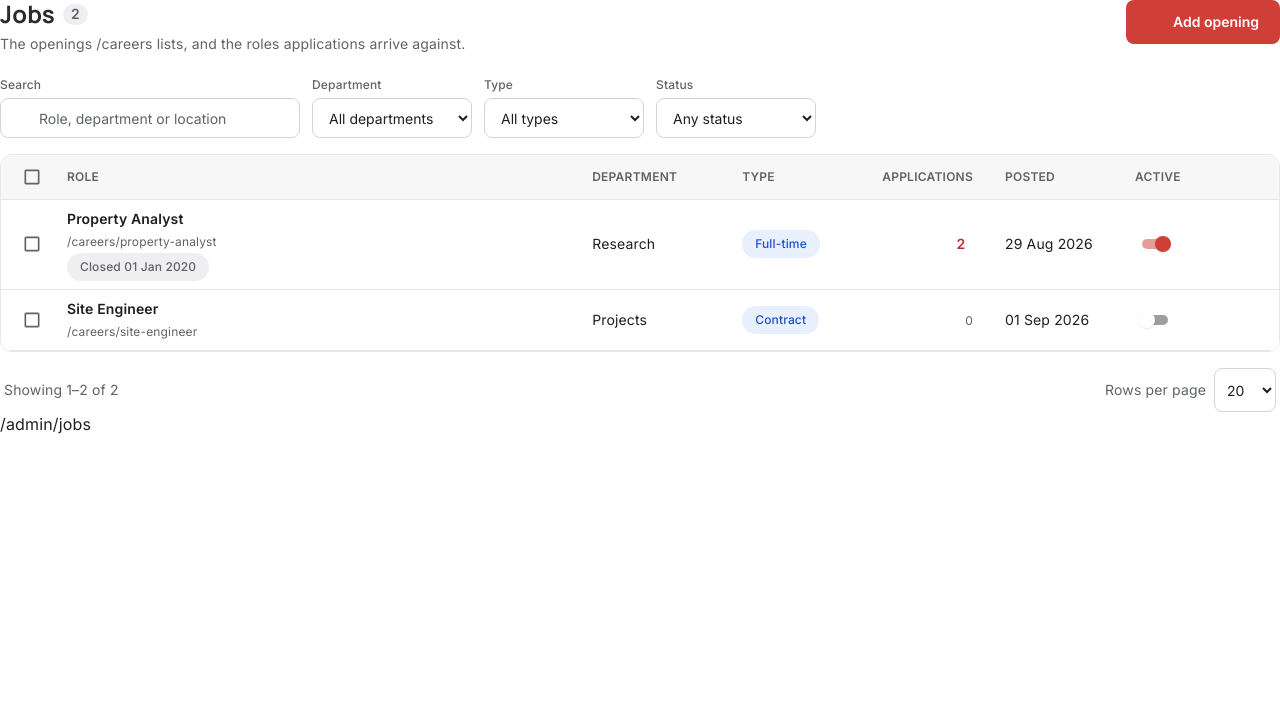
JobsPage (QA-61) › says the whole batch is refused when one has applications
Click the checkbox named "Select Property Analyst": (32,245) [22,235,42,255]
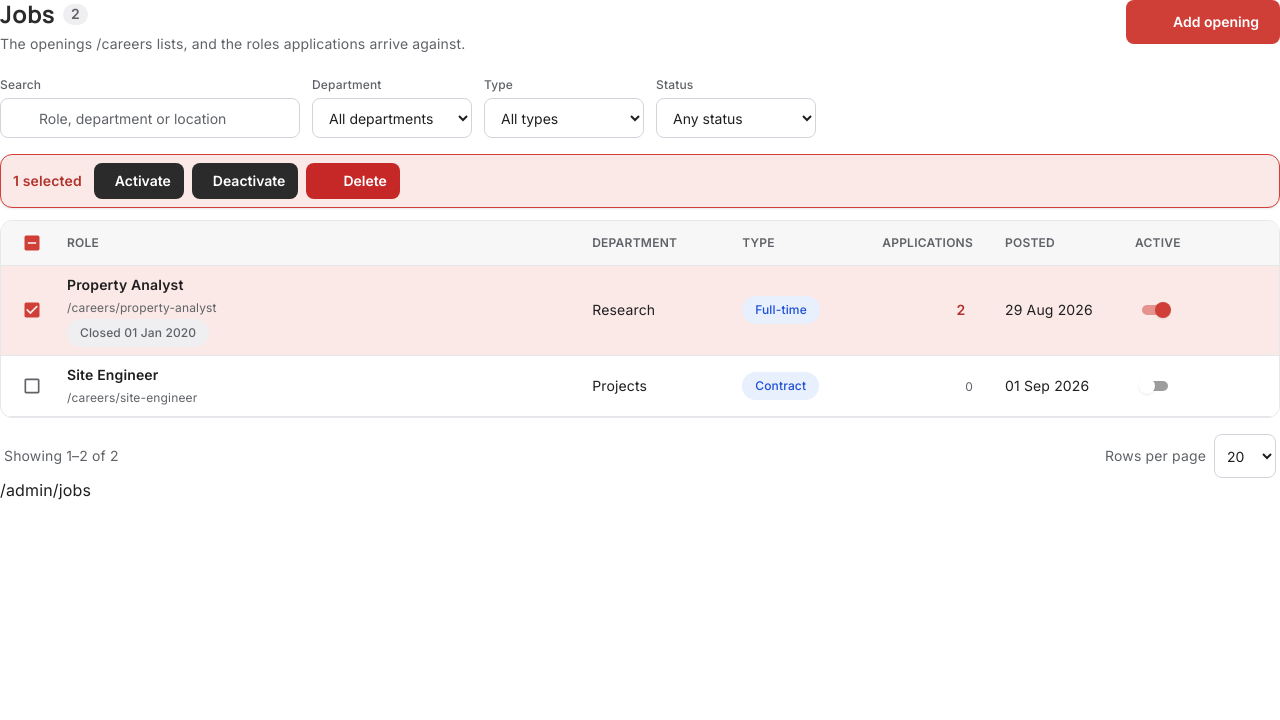
Click the checkbox named "Select Site Engineer": (32,386) [22,376,42,396]
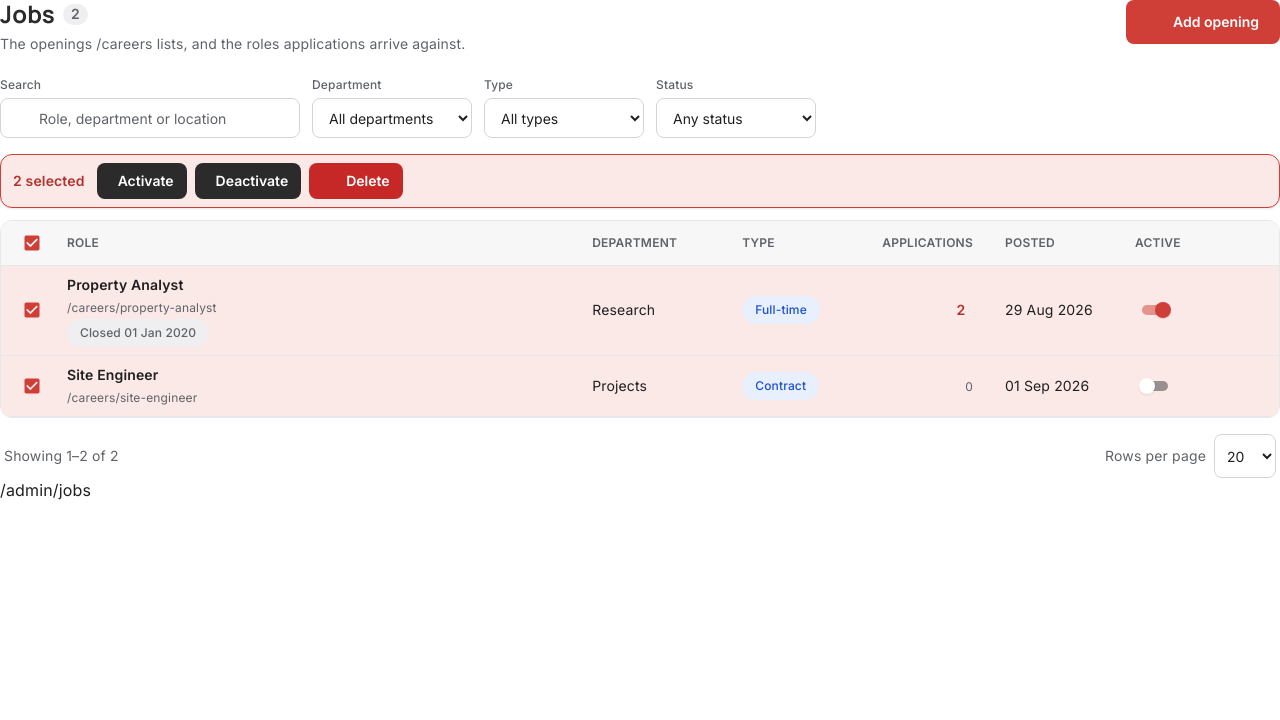
Click the button "Delete": (356,181) [309,163,403,199]
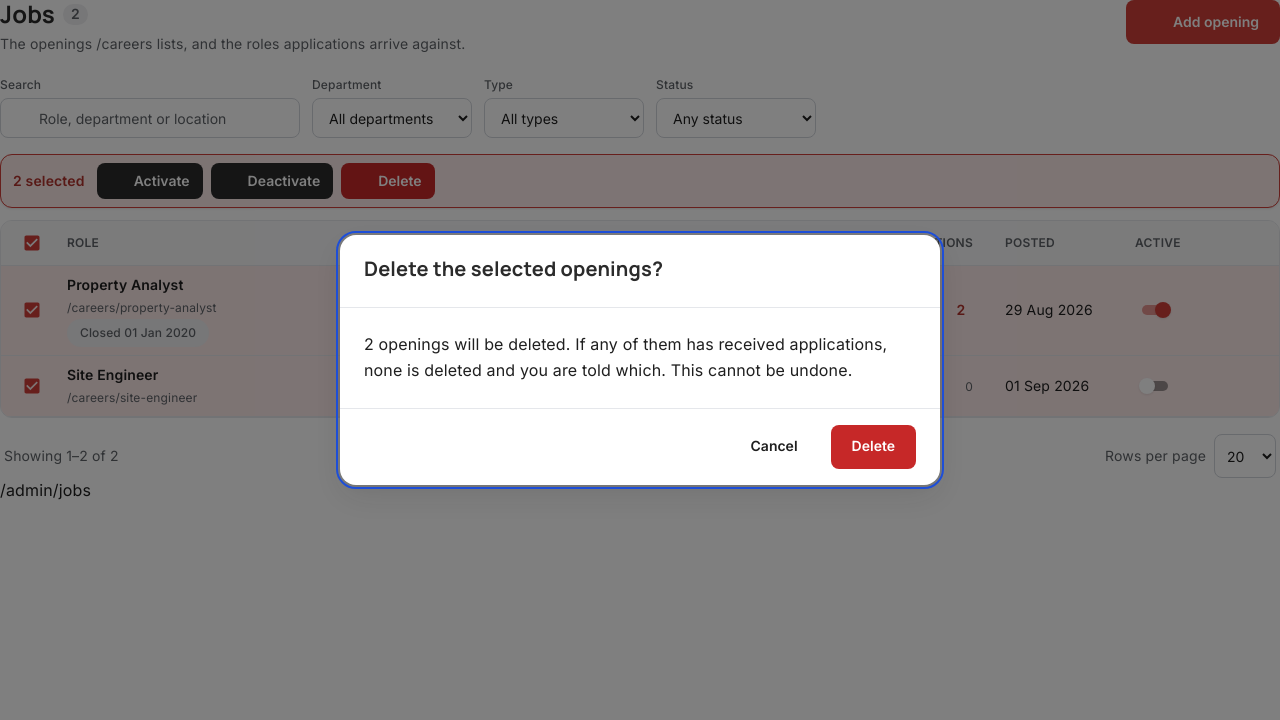
Result: the text "2 openings will be deleted. If any of them has received applications, none is deleted and you are told which. This canno" is shown at [364,334,887,380]
